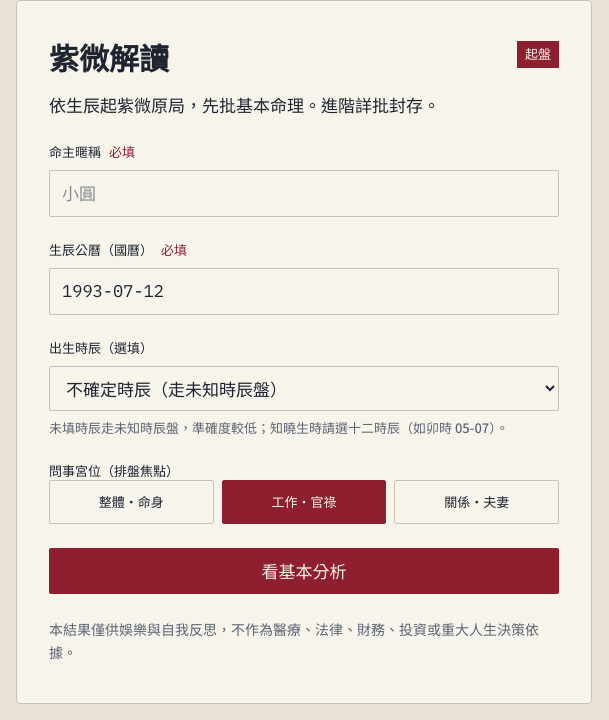
it: HomeClient 高風險與失敗分流 › does not render 畫面 A for a real HTTP 200 HIGH_RISK payload
Step 1. Type "這筆投資會不會賺" into the field labelled "命主暱稱" → {"x": 304, "y": 194}, box [49,170,559,217]
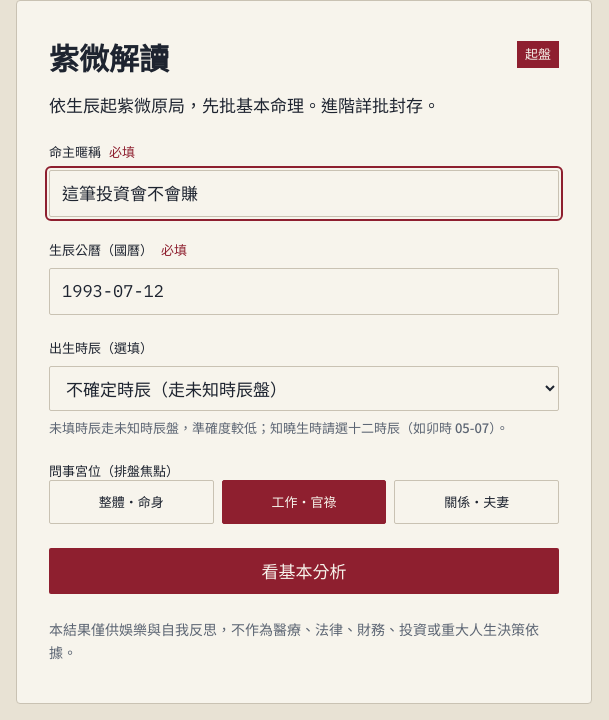
Step 2. Click the button "看基本分析" → {"x": 304, "y": 571}, box [49,548,559,594]
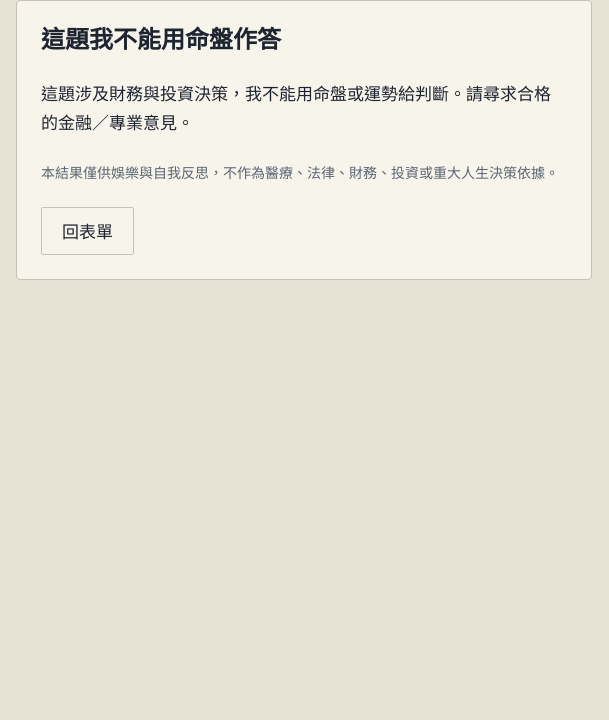
Expected: the heading "這題我不能用命盤作答" is shown, [41,26,281,53]
Expected: the text "這題涉及財務與投資決策，我不能用命盤或運勢給判斷。請尋求合格的金融／專業意見。" is shown, [41,79,567,137]
Expected: the button "回表單" is shown, [41,207,134,255]
